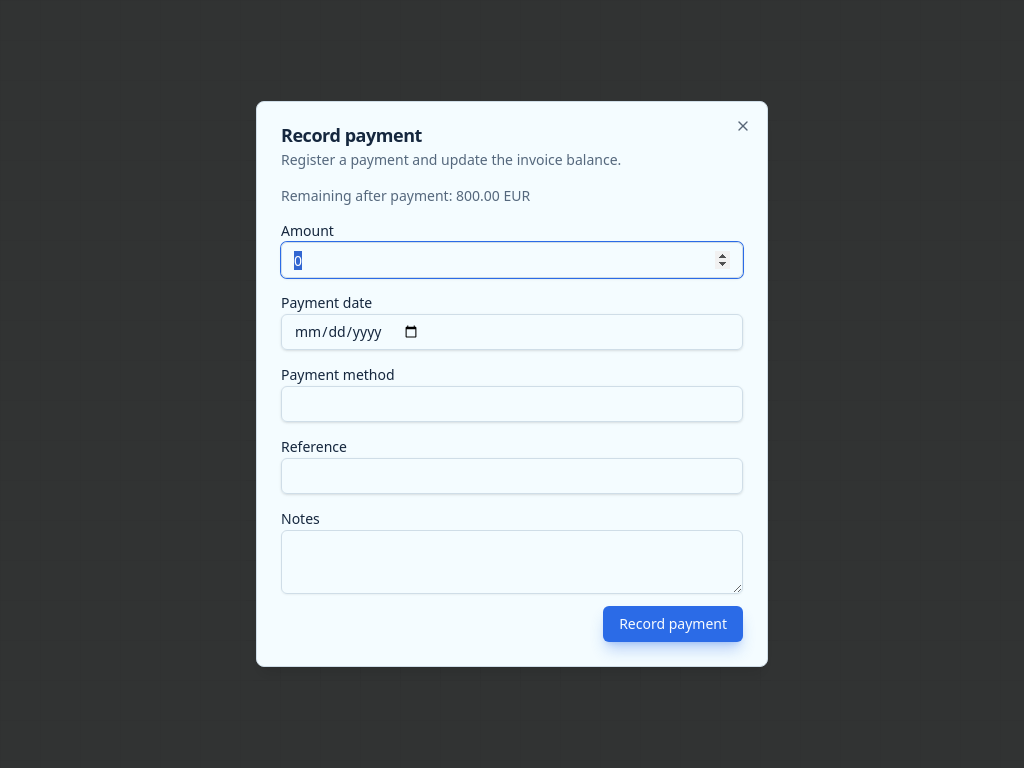
RecordPaymentModal › validates amount against remaining balance
Replace the text in the number field labelled "Amount" with "900". click: (512, 260)
box: [281,242,743,278]
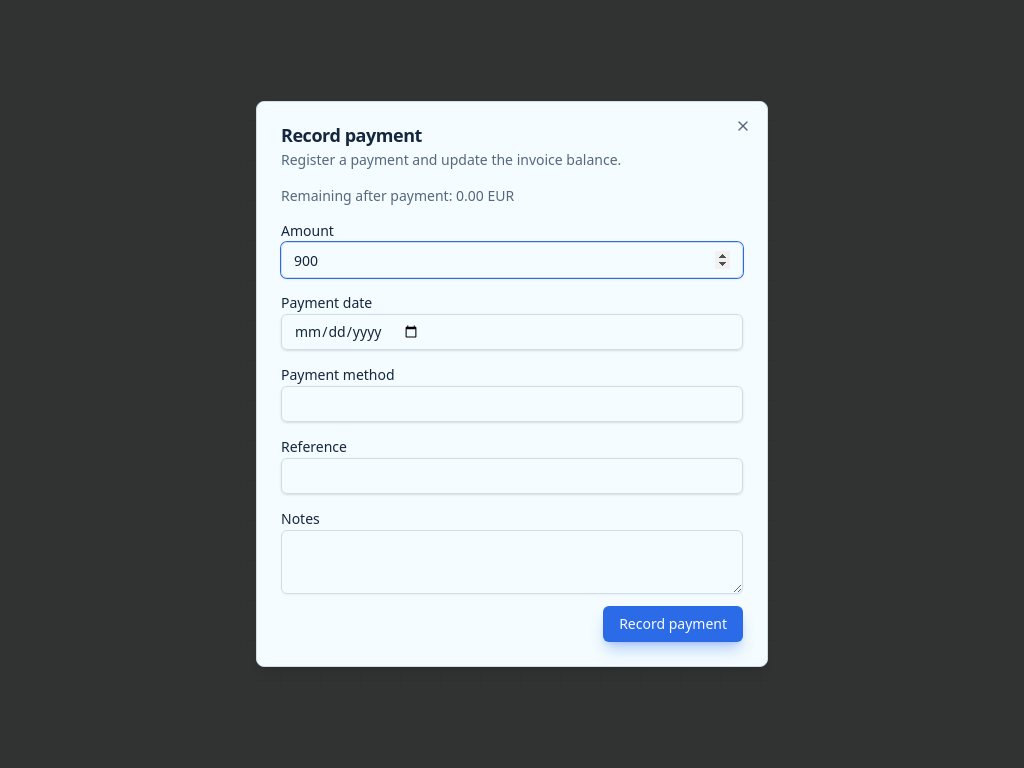
Click the button "Record payment". click: (673, 624)
box: [603,606,743,642]
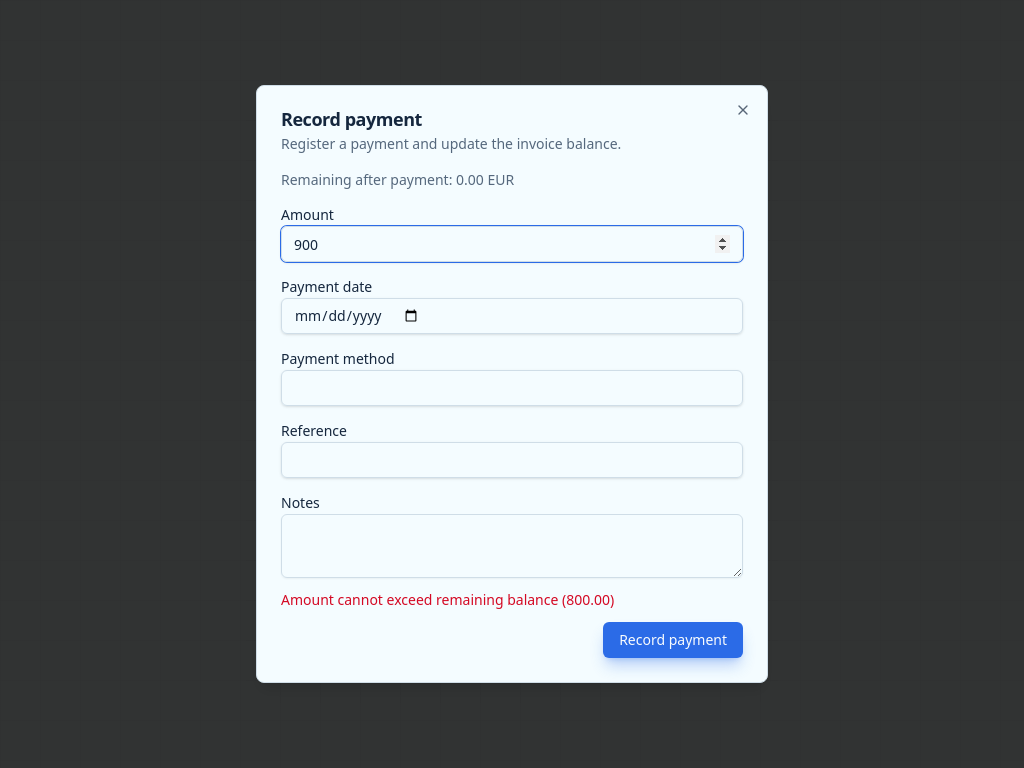
Expected: the text "Amount cannot exceed remaining balance (800.00)" is shown, [281,590,614,609]
